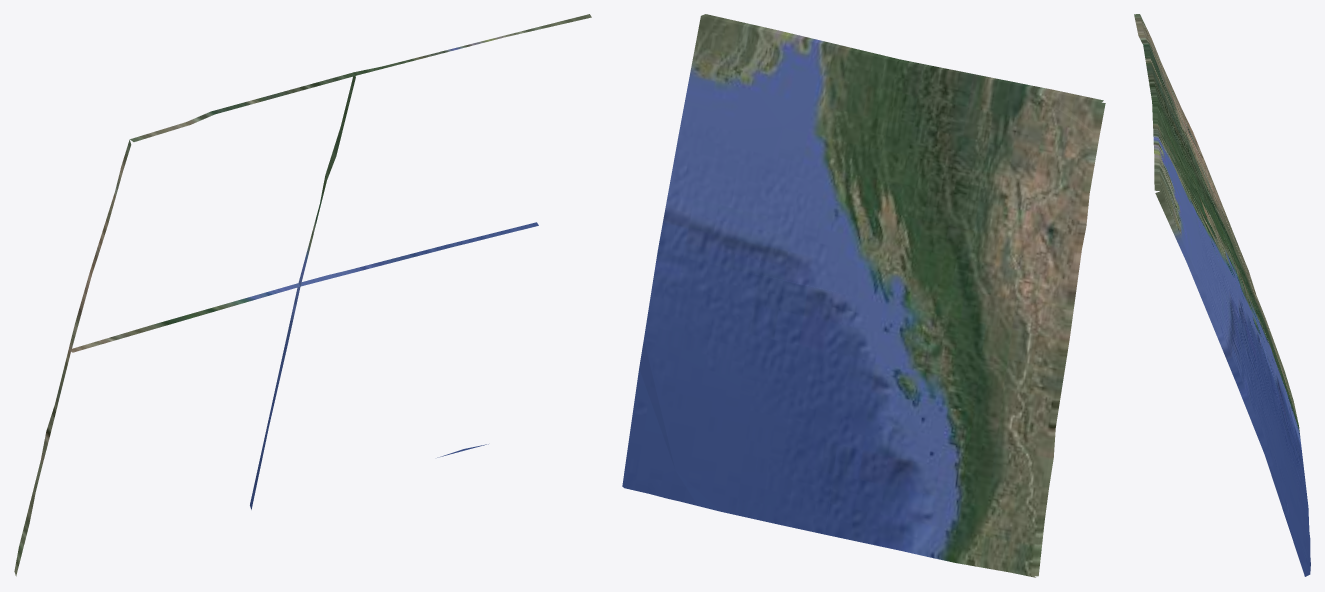
3 views of the same model, side by side, from view 1: azimuth 30°, elevation 25°; view 2: azimuth 150°, elevation 25°; view 3: azimuth 270°, elevation 25° (orthographic). The views are drawn at different scales.
Bounding box in the file's own units: 607623 × 596345 × 245476.
Materials: 1 (1 with a texture image).
